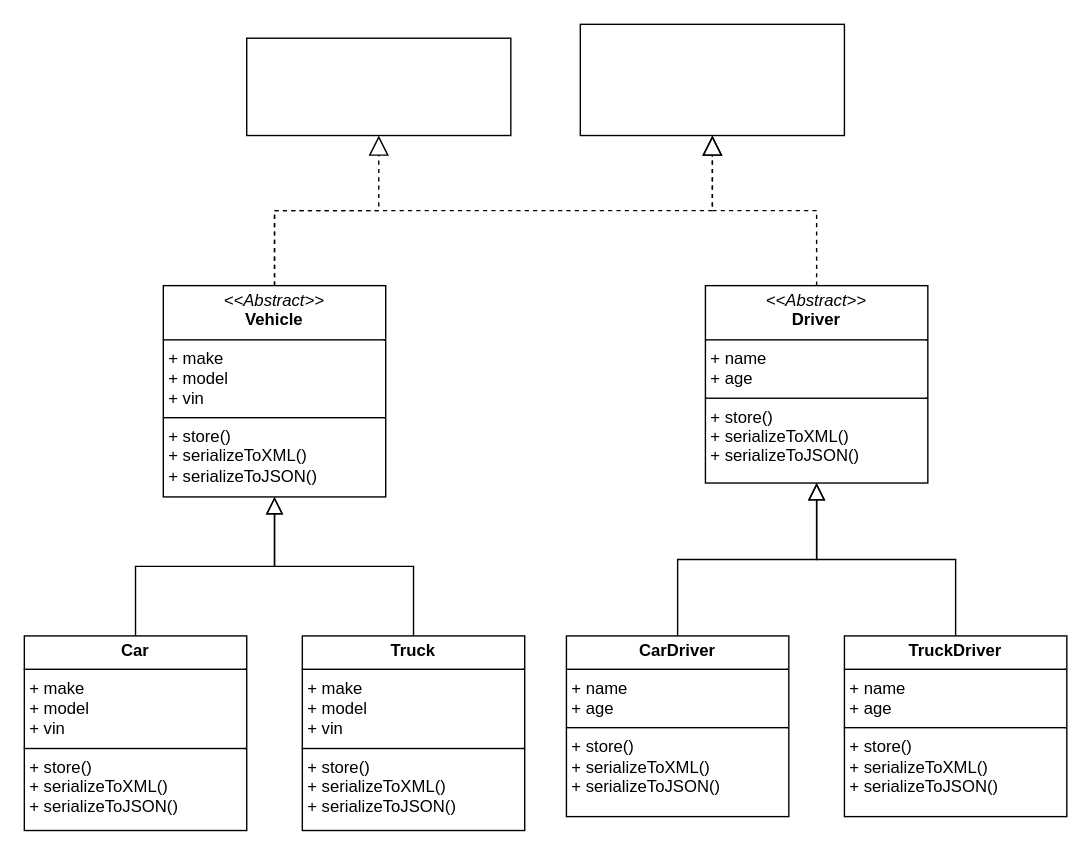
The diagram is 1091 pixels wide and 855 high, and some of its shapes have lost their labels. Here are the shapes that lost their labels. From the top down, the centre of each, then its label:
At (378,86): "<<Interface>> Storable + store()".
At (711,79): "<<Interface>> Serializable + serializeToXML() + serializeToJSON()".
